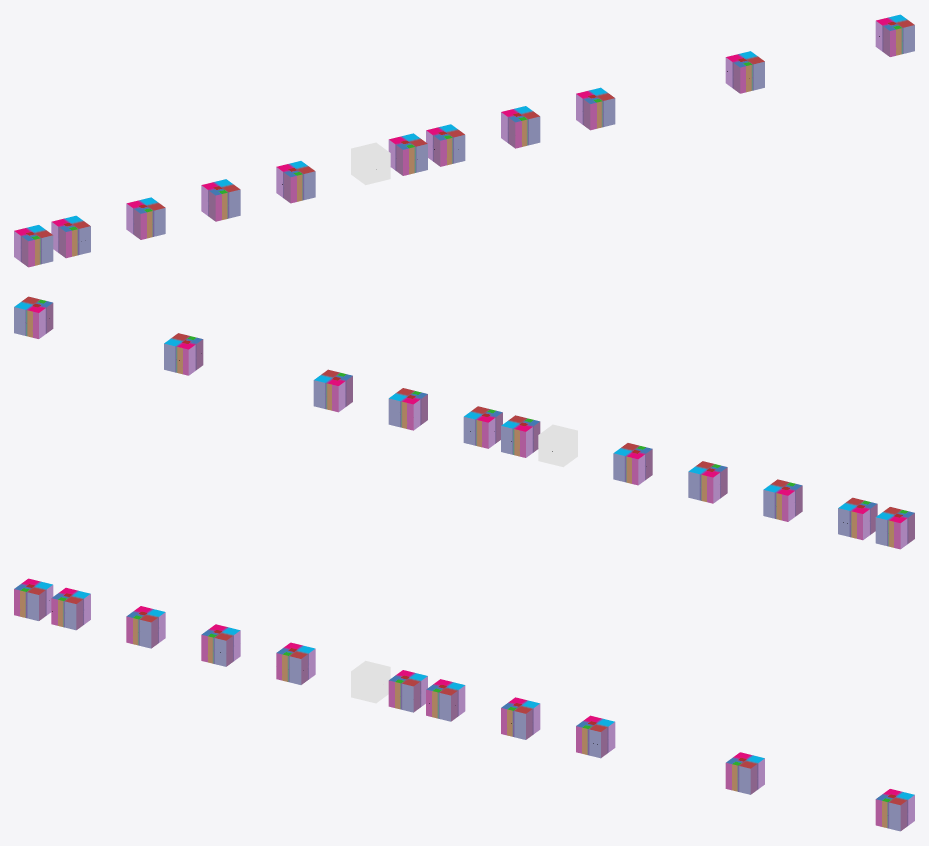
The model's file is character.glb.
The picture shows the model from 3 angles, top to bottom: view 1: azimuth 30°, elevation 25°; view 2: azimuth 150°, elevation 25°; view 3: azimuth 330°, elevation 25°; orthographic projection.
Size of the model in its own units: 71 by 2 by 2.
Materials: 12 (11 with a texture image).
